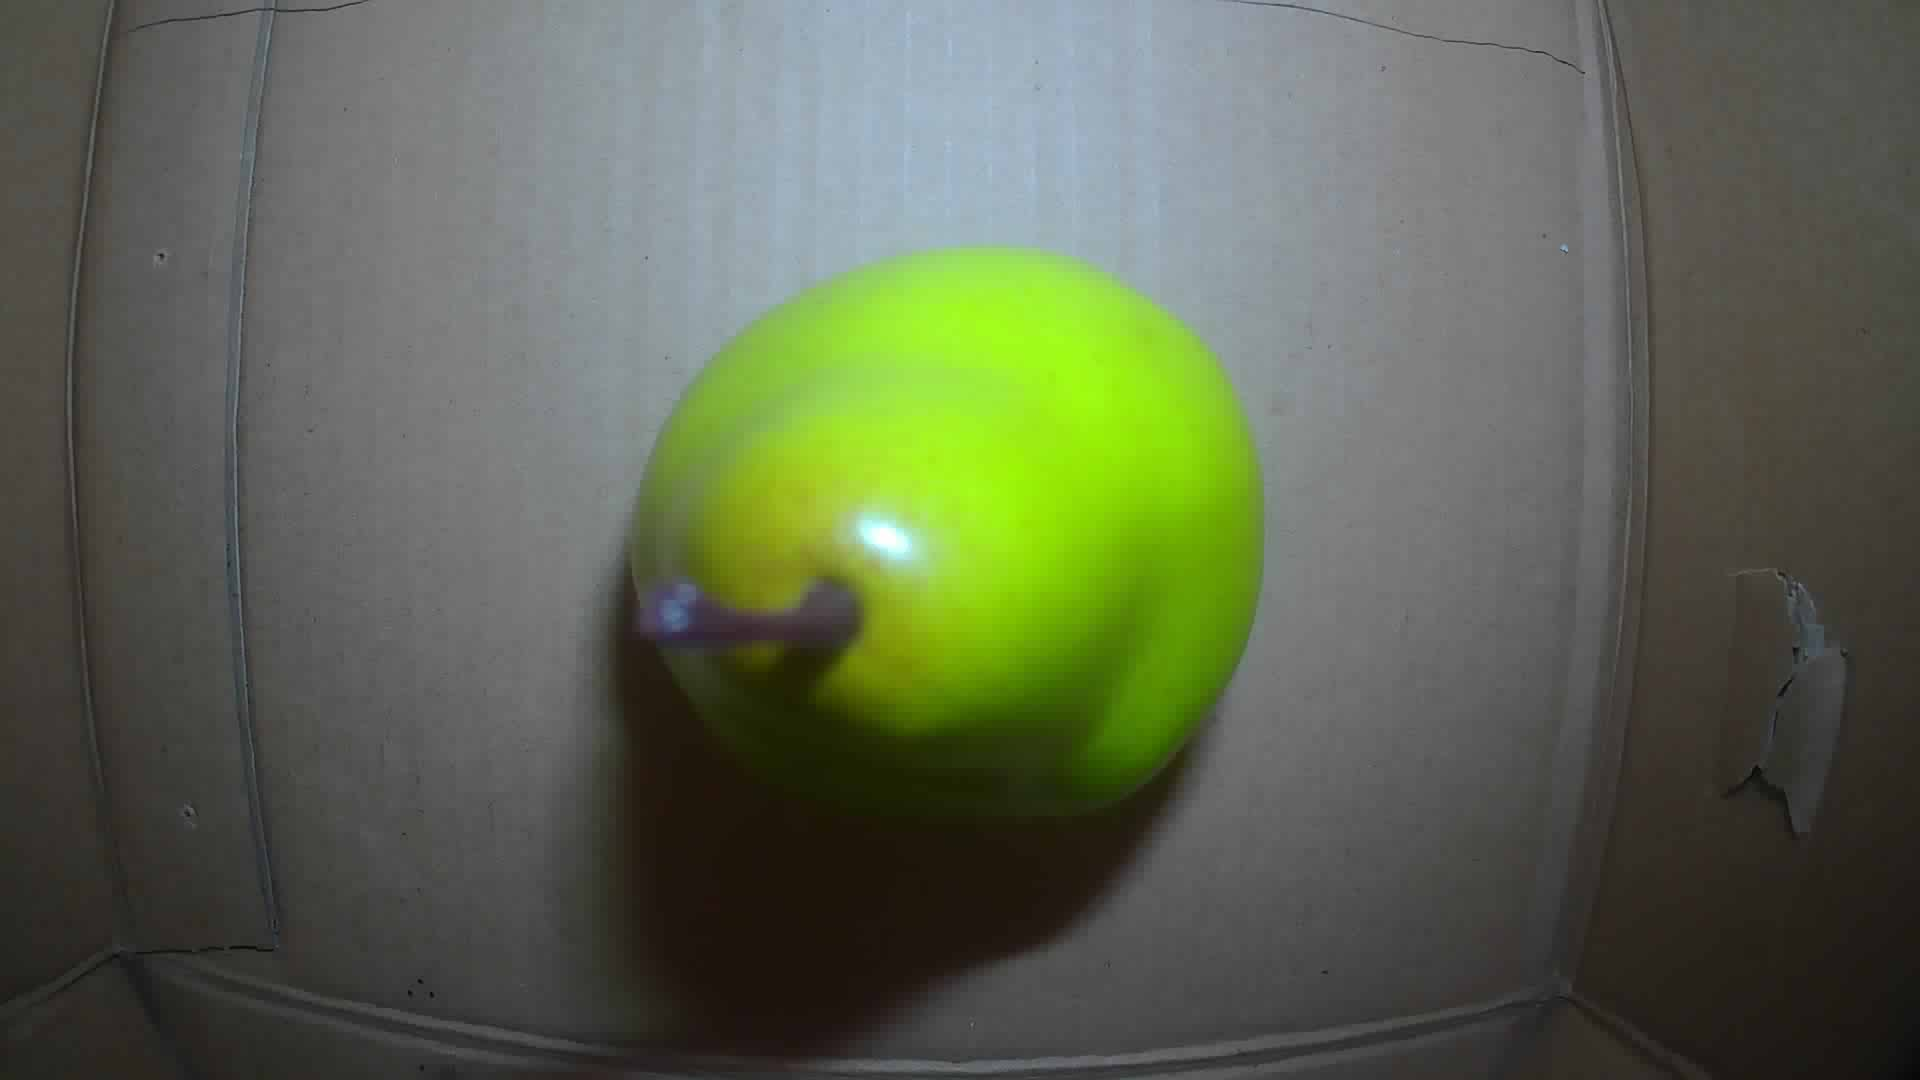pear: (633, 248, 1266, 819)
